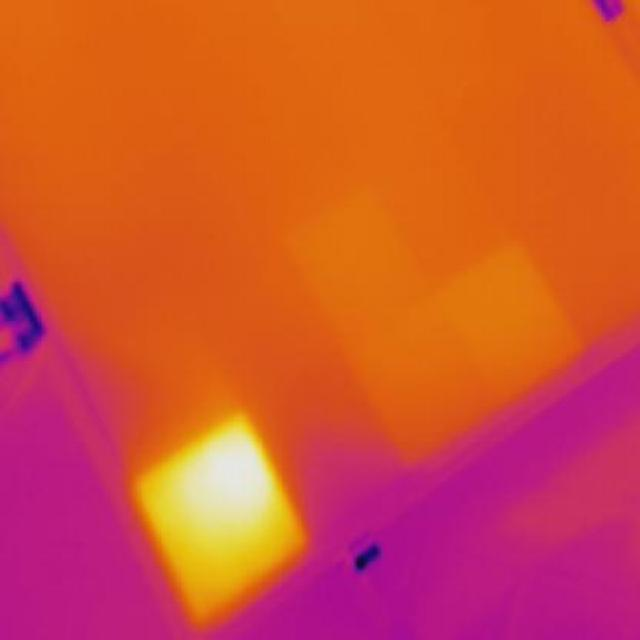hotspot: (118, 406, 320, 634)
